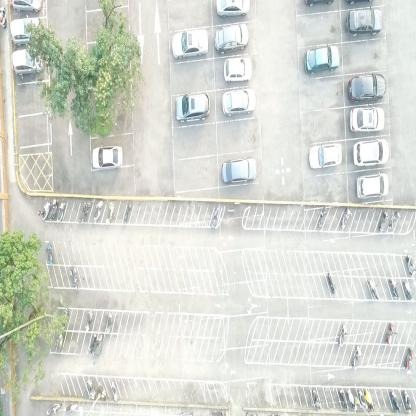car: (171, 27, 209, 60), (304, 42, 340, 76), (348, 72, 386, 104), (174, 91, 211, 123), (214, 22, 249, 55), (221, 155, 258, 186), (346, 7, 383, 38), (353, 137, 390, 167), (355, 171, 390, 201), (222, 86, 256, 116), (8, 18, 44, 46), (309, 140, 342, 170), (349, 106, 385, 132), (12, 46, 43, 76), (92, 143, 124, 170), (224, 56, 252, 84), (215, 0, 250, 20), (10, 0, 42, 13)
